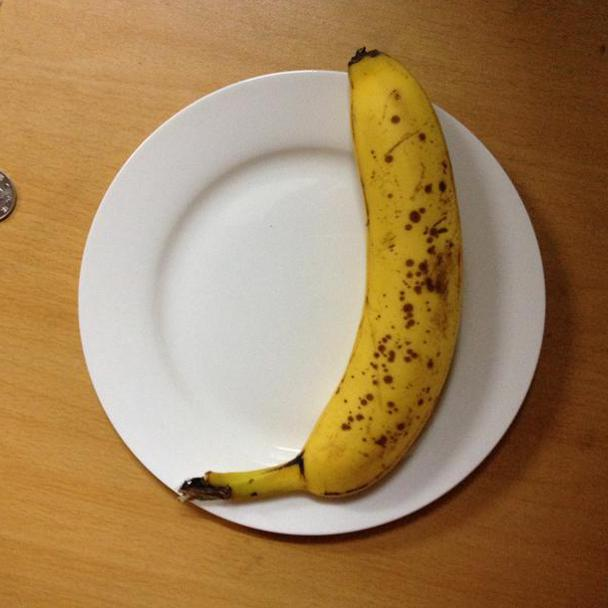banana: (284, 35, 471, 493)
